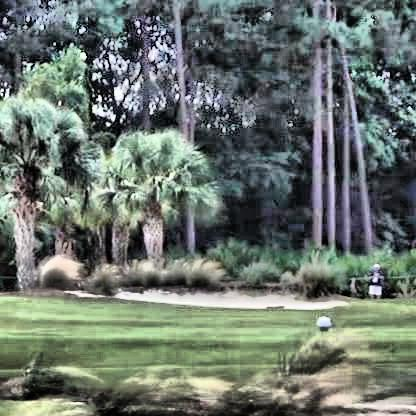golfball: (315, 314, 327, 329)
